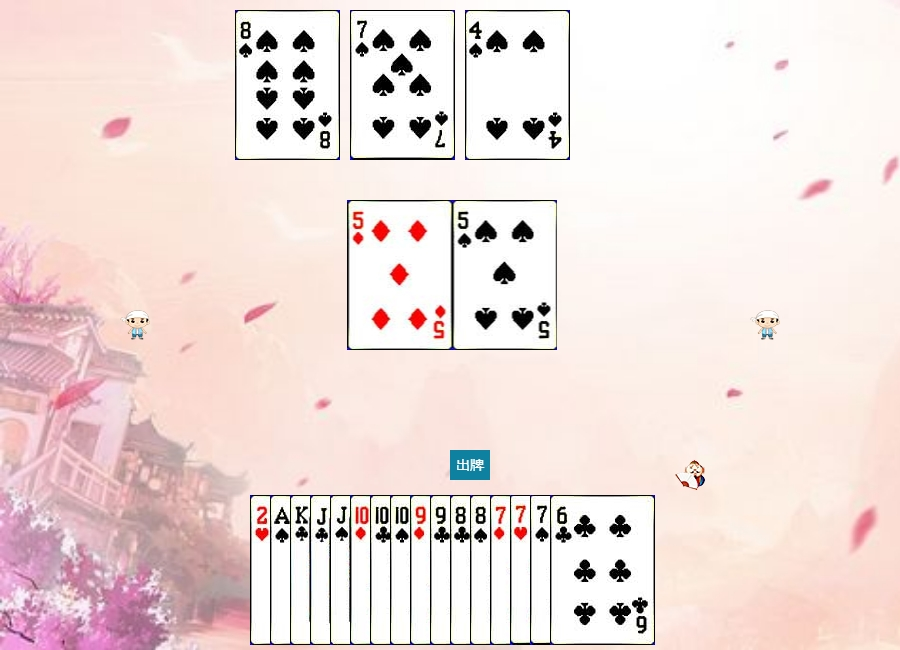10~1: (350, 495, 455, 645)
10~2: (370, 495, 475, 645)
10~4: (390, 495, 495, 645)
11~2: (310, 495, 415, 645)
11~4: (330, 495, 435, 645)
13~2: (290, 495, 395, 645)
14~4: (270, 495, 375, 645)
15~3: (250, 495, 355, 645)
4~4: (465, 10, 570, 160)
5~1: (348, 200, 453, 350)
5~4: (453, 200, 558, 350)
6~2: (550, 495, 655, 645)
7~1: (490, 495, 595, 645)
7~3: (510, 495, 615, 645)
7~4: (350, 10, 455, 160), (530, 495, 635, 645)
8~2: (450, 495, 555, 645)
8~4: (235, 10, 340, 160), (470, 495, 575, 645)
9~1: (410, 495, 515, 645)
9~2: (430, 495, 535, 645)
